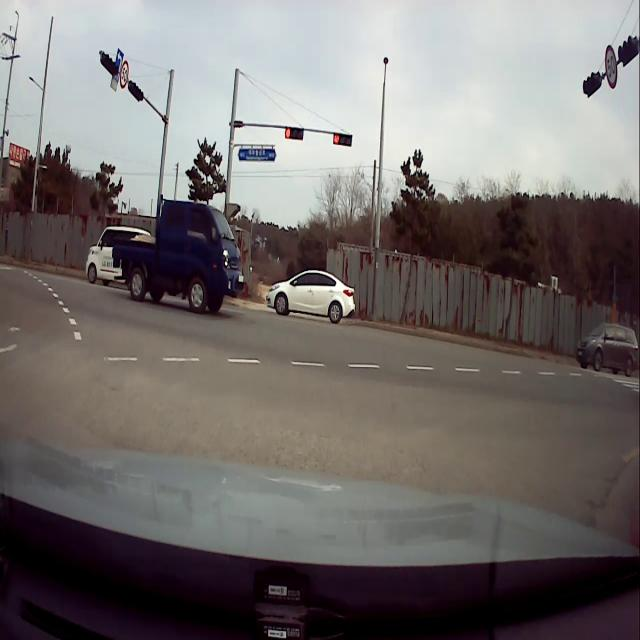Red Light: (284, 126, 292, 140), (333, 133, 340, 145)
